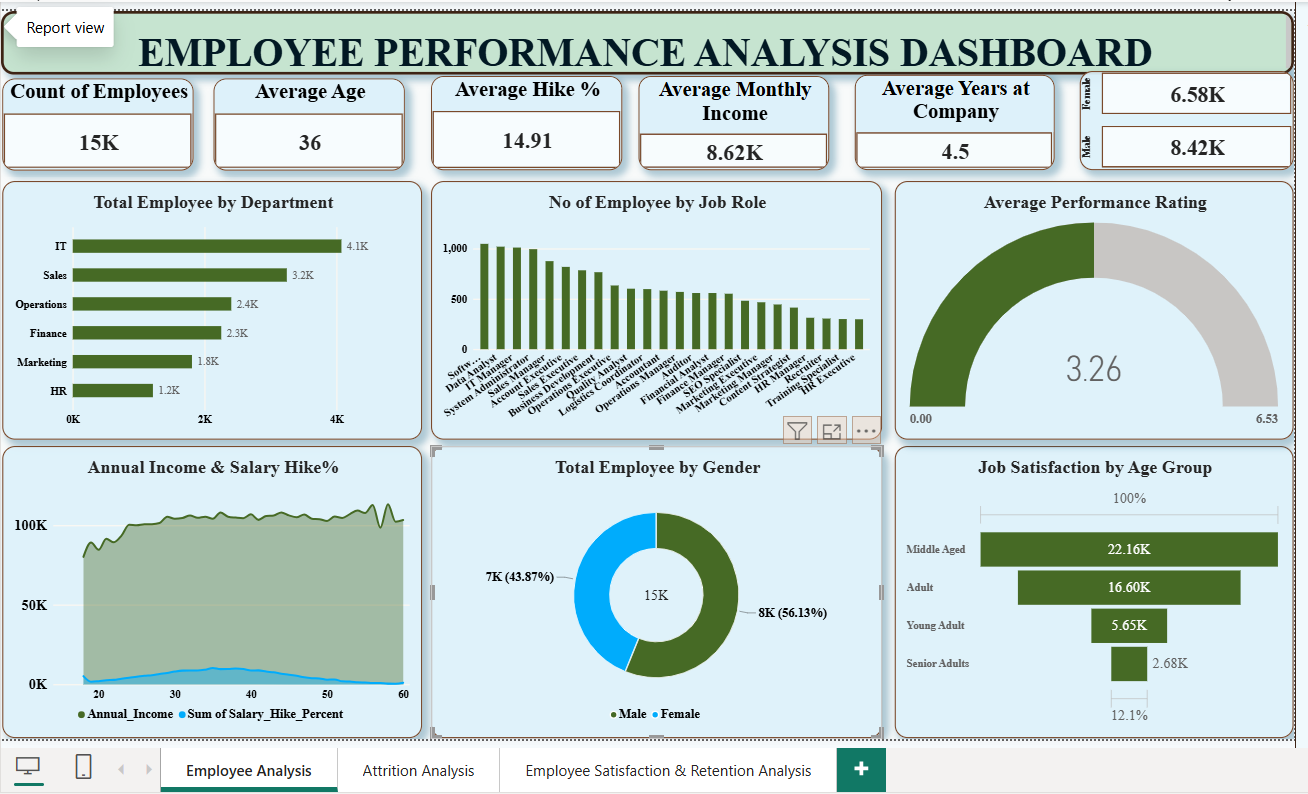

What the dashboard file says about the page in this screenshot:
{"tool":"powerbi","page":{"name":"Employee Analysis","canvas":[1920,1080],"ordinal":0},"visuals":[{"type":"textbox","box":[0,0,1919.2,94.2],"z":0},{"type":"cardVisual","title":"Count of Employees","fields":{"Data":["CountNonNull(Table1.Employee_ID)"]},"box":[1.8,99.6,284.1,136.5],"z":1000},{"type":"cardVisual","title":"Average Age","fields":{"Data":["Avg(Table1.Age)"]},"box":[315.5,99.6,284.1,136.5],"z":2000},{"type":"cardVisual","title":"Average Hike %","fields":{"Data":["Table1.Averrage_Salary_Hike%"]},"box":[638.3,95.9,284.1,140.2],"z":3000},{"type":"cardVisual","title":"Average Monthly Income","fields":{"Data":["Avg(Table1.Monthly_Income)"]},"box":[945.8,95.7,283.4,139.8],"z":4000},{"type":"cardVisual","title":"Average Years at Company","fields":{"Data":["Avg(Table1.Years_At_Company)"]},"box":[1267.5,93.8,296.8,141.7],"z":5000},{"type":"cardVisual","fields":{"Data":["CountNonNull(Table1.Employee_ID)"],"Rows":["Table1.Gender","Table1.Gender"]},"box":[1601.2,88.5,317.3,147.6],"z":6000},{"type":"barChart","title":"Total Employee by Department","fields":{"Category":["Table1.Department"],"Y":["Table1.Total_Employee"]},"box":[1.8,252.7,623.5,383.7],"z":7000},{"type":"columnChart","title":"No of Employee by Job Role","fields":{"Category":["Table1.Job_Role"],"Y":["CountNonNull(Table1.Employee_ID)"]},"box":[638.3,252.7,669.6,383.7],"z":8000},{"type":"areaChart","title":"Annual Income & Salary Hike%","fields":{"Category":["Table1.Age"],"Y":["Table1.Annual_Income","Sum(Table1.Salary_Hike_Percent)"]},"box":[1.8,645.7,623.5,433.5],"z":9000},{"type":"donutChart","title":"Total Employee by Gender","fields":{"Category":["Table1.Gender"],"Y":["Table1.Total_Employee"]},"box":[638.3,645.7,669.6,433.5],"z":10000},{"type":"funnel","title":"Job Satisfaction by Age Group","fields":{"Category":["Attrition Analysis.Age Group"],"Y":["Sum(Attrition Analysis.Average Job Satisfaction)"]},"box":[1326.4,645.7,592.2,433.5],"z":11000},{"type":"gauge","title":"Average Performance Rating","fields":{"Y":["Avg(Table1.Performance_Rating)"]},"box":[1326.4,252.7,592.2,383.7],"z":12000}]}

Visuals, with their boxes in screenshot pixels (x1, y1, x2, y2):
textbox: detection(0, 7, 1289, 70)
"Count of Employees" cardVisual: detection(1, 74, 192, 165)
"Average Age" cardVisual: detection(212, 74, 403, 165)
"Average Hike %" cardVisual: detection(429, 71, 620, 165)
"Average Monthly Income" cardVisual: detection(635, 71, 826, 165)
"Average Years at Company" cardVisual: detection(852, 70, 1051, 165)
cardVisual - CountNonNull(Table1.Employee_ID) x Table1.Gender: detection(1076, 66, 1289, 165)
"Total Employee by Department" barChart: detection(1, 177, 420, 434)
"No of Employee by Job Role" columnChart: detection(429, 177, 879, 434)
"Annual Income & Salary Hike%" areaChart: detection(1, 441, 420, 732)
"Total Employee by Gender" donutChart: detection(429, 441, 879, 732)
"Job Satisfaction by Age Group" funnel: detection(891, 441, 1289, 732)
"Average Performance Rating" gauge: detection(891, 177, 1289, 434)
